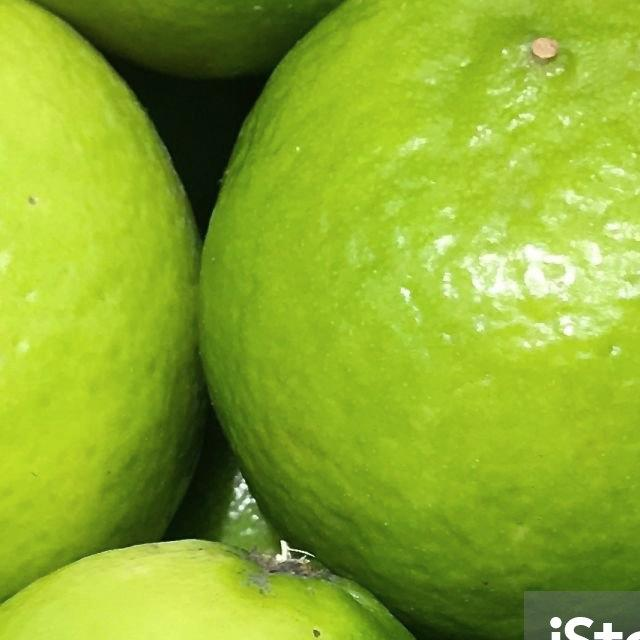lime: (181, 0, 640, 640)
